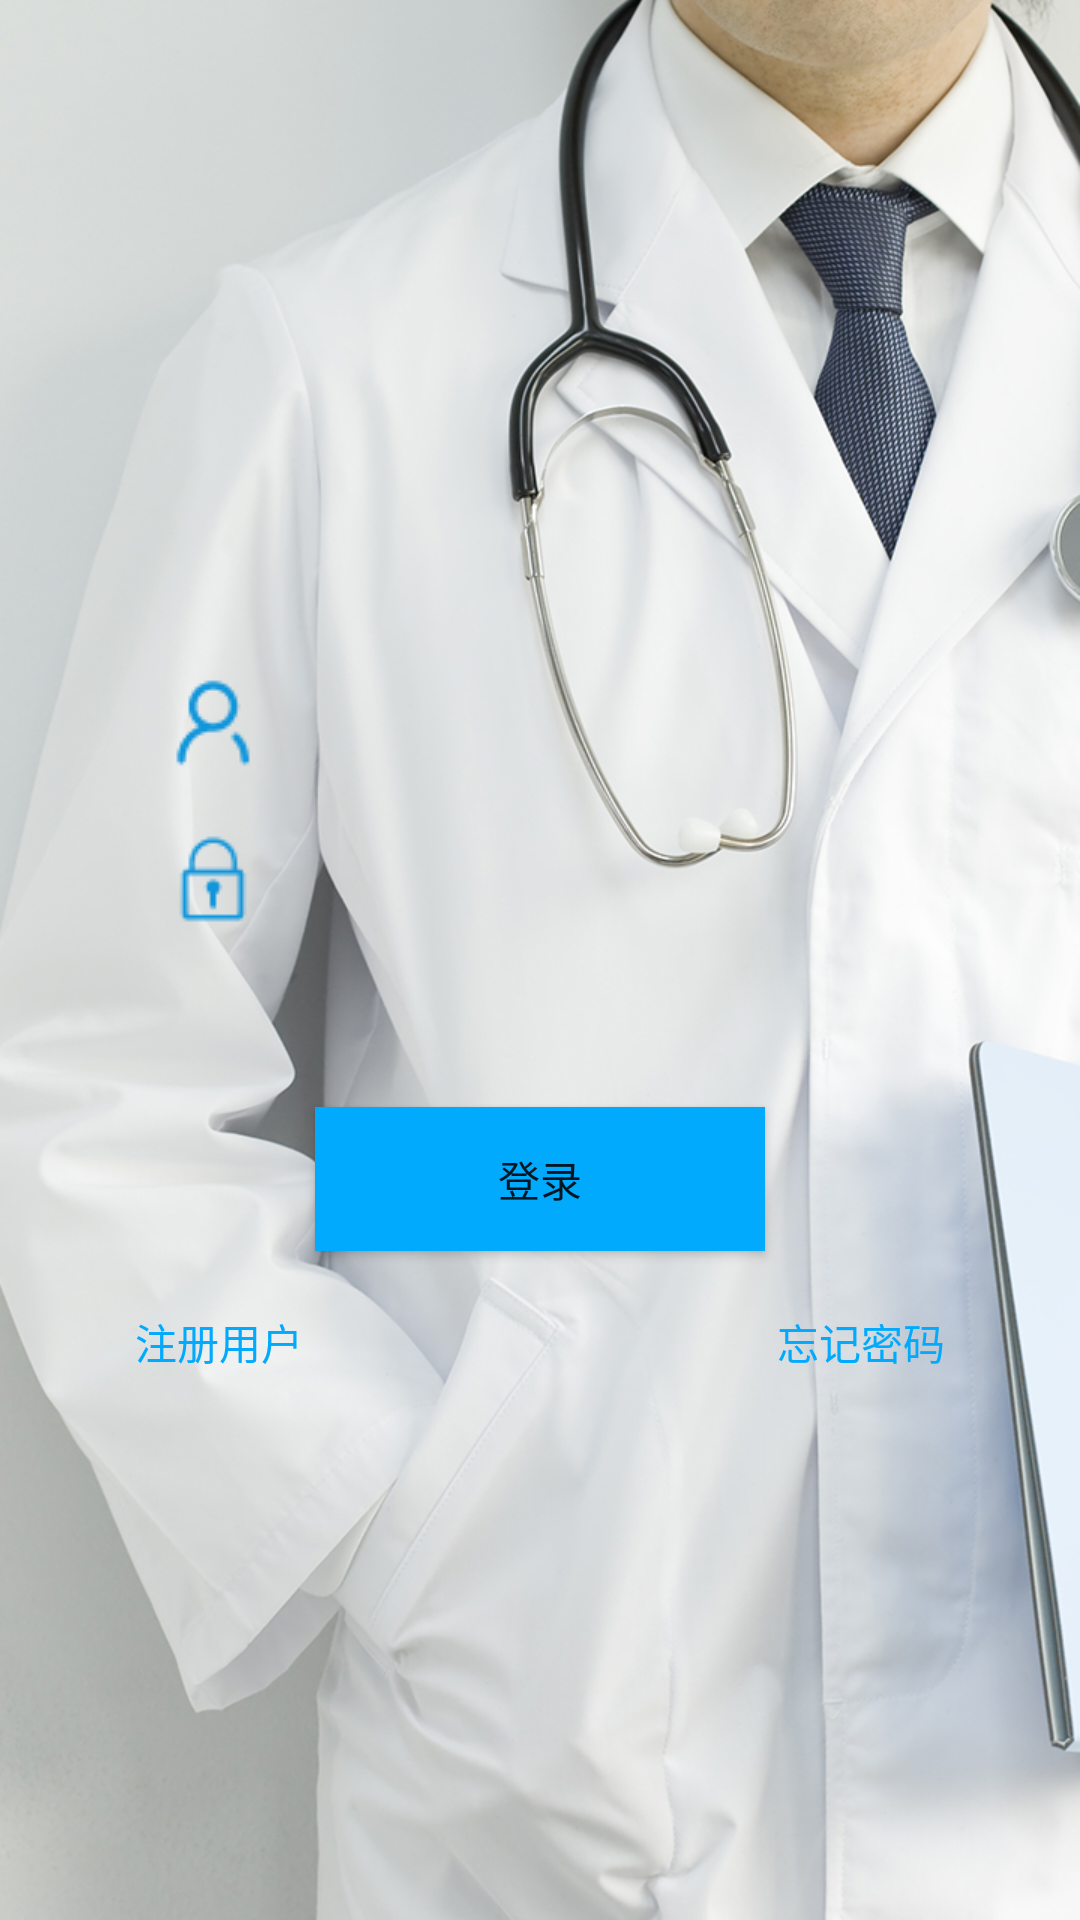

Named icons in this screenshot (1080w x 1920h) and their bounding boxes, [left=x1, top=y1, right=x2, bottom=y2]:
password: [left=180, top=836, right=247, bottom=922]
user: [left=176, top=680, right=250, bottom=766]
